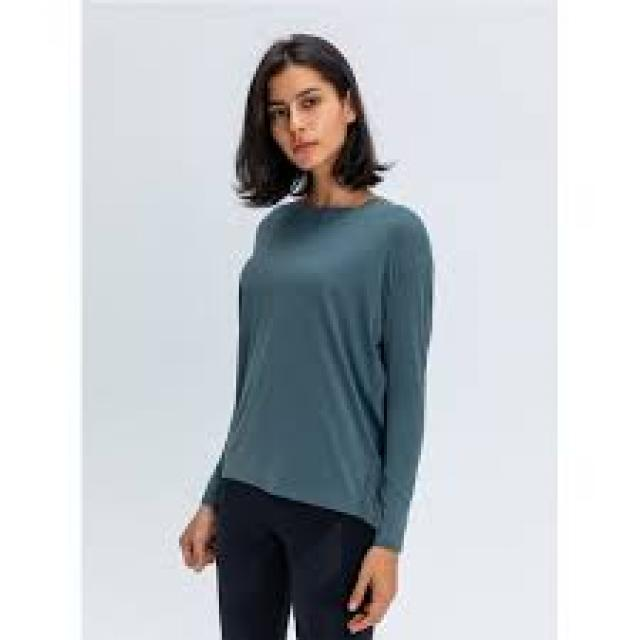plain: (190, 199, 438, 525)
